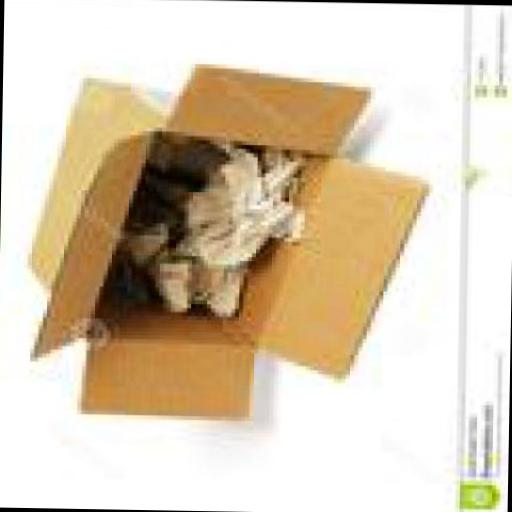cardboard: (24, 60, 428, 426)
metal: (180, 146, 302, 273), (150, 247, 240, 320), (120, 214, 168, 282), (148, 146, 214, 192), (140, 182, 186, 231)
